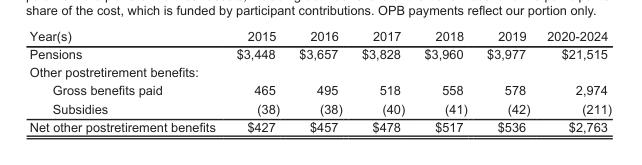table: (28, 28, 611, 133)
table column: (28, 28, 225, 133), (537, 28, 611, 133), (225, 28, 288, 133), (288, 28, 351, 133), (413, 28, 476, 133), (351, 28, 413, 133), (476, 28, 537, 133)
table column header: (28, 28, 611, 44)
table projected row header: (28, 62, 611, 80)
table row: (28, 98, 611, 117), (28, 44, 611, 62), (28, 62, 611, 80), (28, 80, 611, 98), (28, 28, 611, 44), (28, 117, 611, 133)
